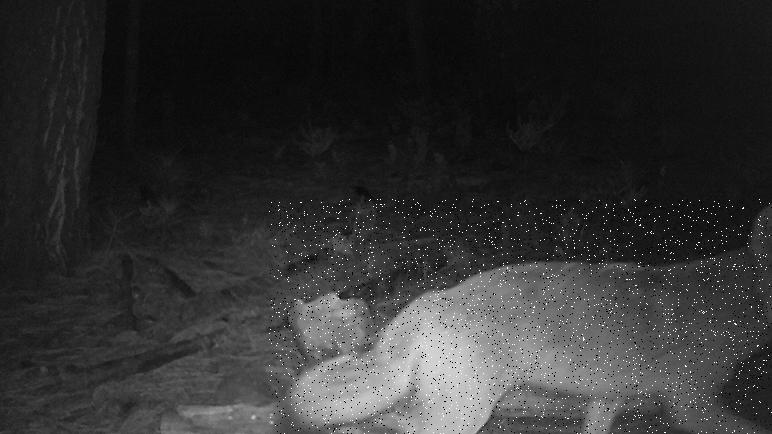Coyote: (269, 199, 772, 434)
